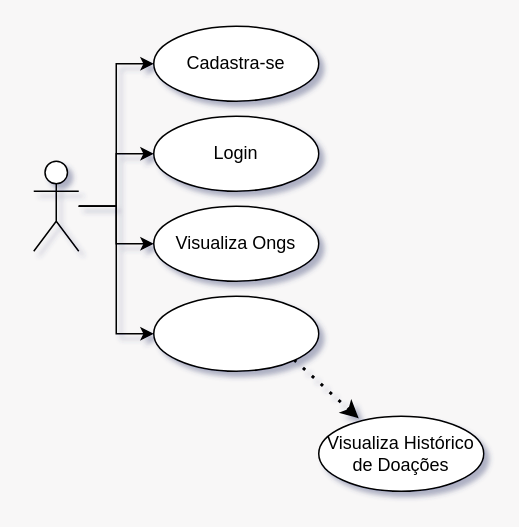
Some shapes in this 519 by 527 pixel diagram are drawn without their labels. The shapes that lost their labels are listed below. From the top down, each one's centre as x and y in pixels, then its label:
At [55,205]: "Usuário".
At [235,333]: "Realiza Doações".
